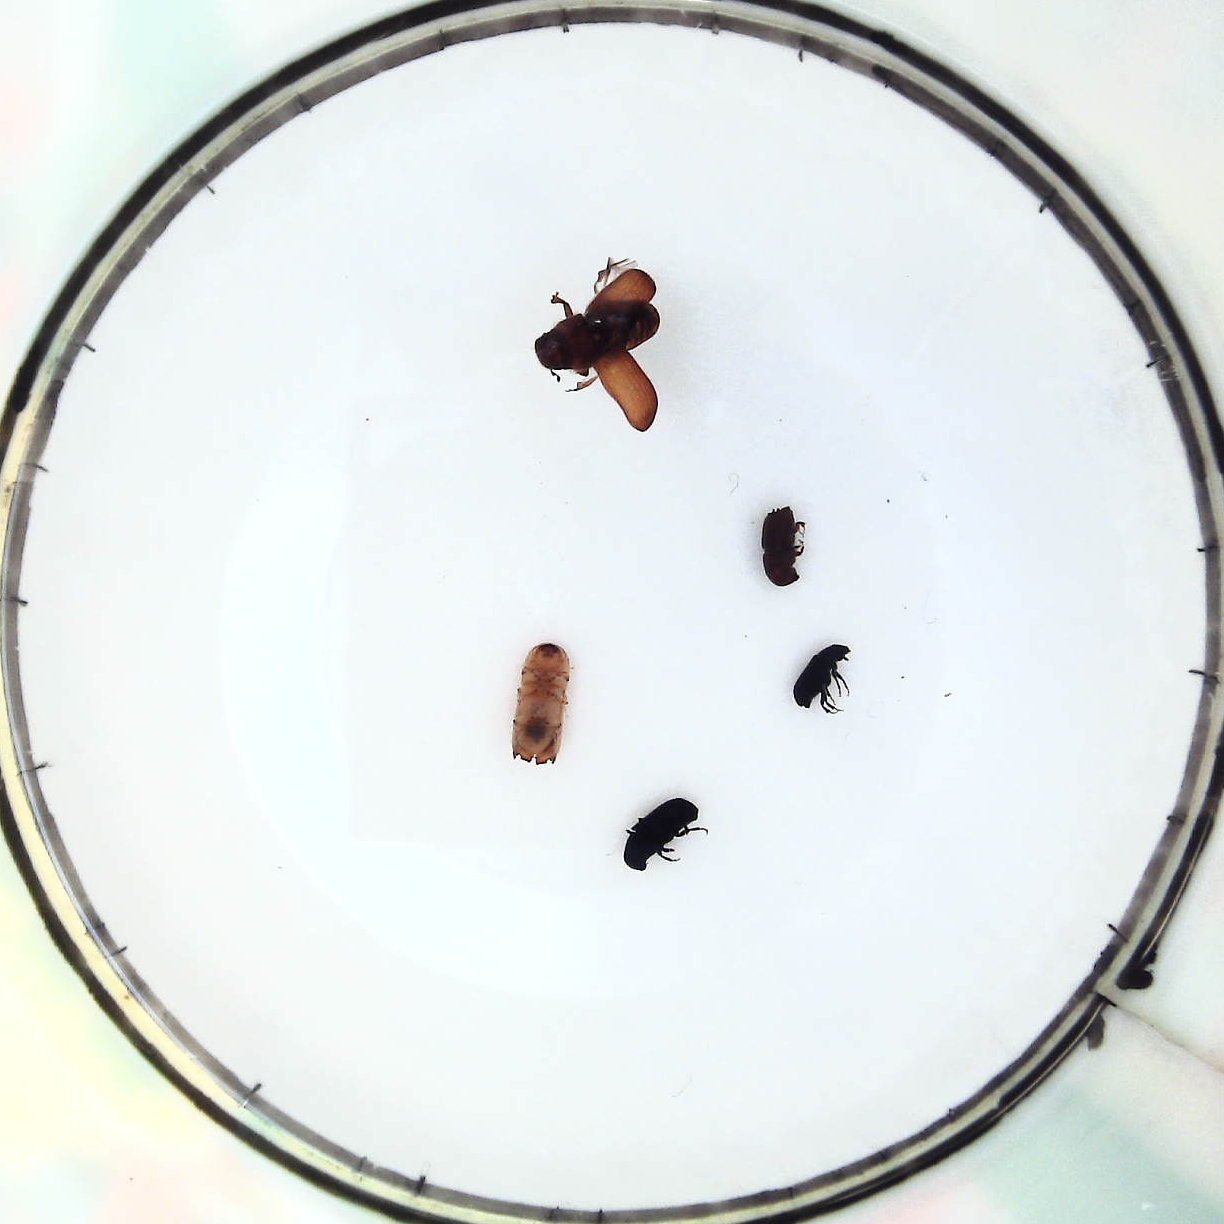Boerner: (513, 641, 568, 769)
Leconte: (534, 259, 667, 430)
Linnaeus: (759, 506, 806, 586)
armandi: (621, 796, 701, 866)
coleoptera: (794, 641, 852, 715)
